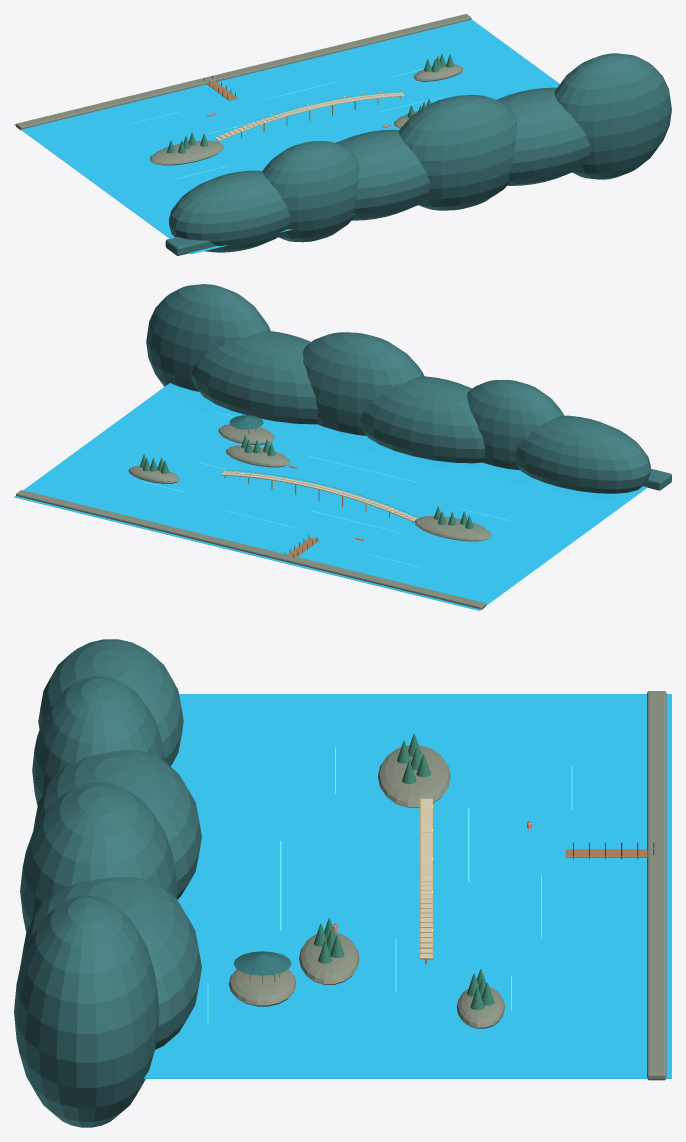
File: lake_vista.glb
The picture shows the model from 3 angles, top to bottom: view 1: azimuth 30°, elevation 25°; view 2: azimuth 150°, elevation 25°; view 3: azimuth 270°, elevation 25°; orthographic projection. The views are drawn at different scales.
Visible parts, largest first — view 1: VIS_Lake_Water, VIS_Lake_FarHill_06, VIS_Lake_FarHill_04, VIS_Lake_FarHill_01, VIS_Lake_FarHill_02, VIS_Lake_FarHill_05, VIS_Lake_FarHill_03, VIS_Lake_NearBank, VIS_Lake_Island_01, VIS_Lake_FarShore, VIS_Lake_Island_03; view 2: VIS_Lake_Water, VIS_Lake_FarHill_05, VIS_Lake_FarHill_03, VIS_Lake_FarHill_01, VIS_Lake_FarHill_06, VIS_Lake_FarHill_04, VIS_Lake_FarHill_02, VIS_Lake_NearBank, VIS_Lake_Island_01, VIS_Lake_Island_02, VIS_Lake_PavilionIsland, VIS_Lake_Island_03; view 3: VIS_Lake_Water, VIS_Lake_FarHill_06, VIS_Lake_FarHill_04, VIS_Lake_FarHill_05, VIS_Lake_FarHill_02, VIS_Lake_FarHill_03, VIS_Lake_NearBank, VIS_Lake_FarHill_01, VIS_Lake_Island_01, VIS_Lake_Island_02, VIS_Lake_PavilionIsland, VIS_Lake_Island_03 (+1 smaller).
Boxes of the visible parts, x1,y1,x2,y2 form: VIS_Lake_Water: (14,19,559,254); VIS_Lake_FarHill_06: (554,53,671,179); VIS_Lake_FarHill_04: (398,95,517,210); VIS_Lake_FarHill_01: (169,170,290,252); VIS_Lake_FarHill_02: (262,141,359,242); VIS_Lake_FarHill_05: (496,87,590,185); VIS_Lake_FarHill_03: (336,129,430,220); VIS_Lake_NearBank: (16,14,471,130); VIS_Lake_Island_01: (149,140,224,165); VIS_Lake_FarShore: (165,237,216,255); VIS_Lake_Island_03: (413,64,463,81); VIS_Lake_Water: (14,383,647,610); VIS_Lake_FarHill_05: (191,331,318,424); VIS_Lake_FarHill_03: (360,376,485,463); VIS_Lake_FarHill_01: (514,415,650,493); VIS_Lake_FarHill_06: (146,284,270,391); VIS_Lake_FarHill_04: (302,332,424,435); VIS_Lake_FarHill_02: (467,380,563,470); VIS_Lake_NearBank: (16,490,486,610); VIS_Lake_Island_01: (414,516,491,541); VIS_Lake_Island_02: (226,445,289,467); VIS_Lake_PavilionIsland: (218,424,274,444); VIS_Lake_Island_03: (128,465,179,483); VIS_Lake_Water: (144,694,671,1078); VIS_Lake_FarHill_06: (14,896,159,1127); VIS_Lake_FarHill_04: (20,782,177,931); VIS_Lake_FarHill_05: (20,877,201,1049); VIS_Lake_FarHill_02: (32,676,164,805); VIS_Lake_FarHill_03: (33,749,201,899); VIS_Lake_NearBank: (647,691,666,1080); VIS_Lake_FarHill_01: (38,639,183,766); VIS_Lake_Island_01: (378,745,450,807); VIS_Lake_Island_02: (299,932,359,984); VIS_Lake_PavilionIsland: (228,969,296,1006); VIS_Lake_Island_03: (456,987,505,1028).
Bounding box in the file's own units: 166 × 38 × 108.
